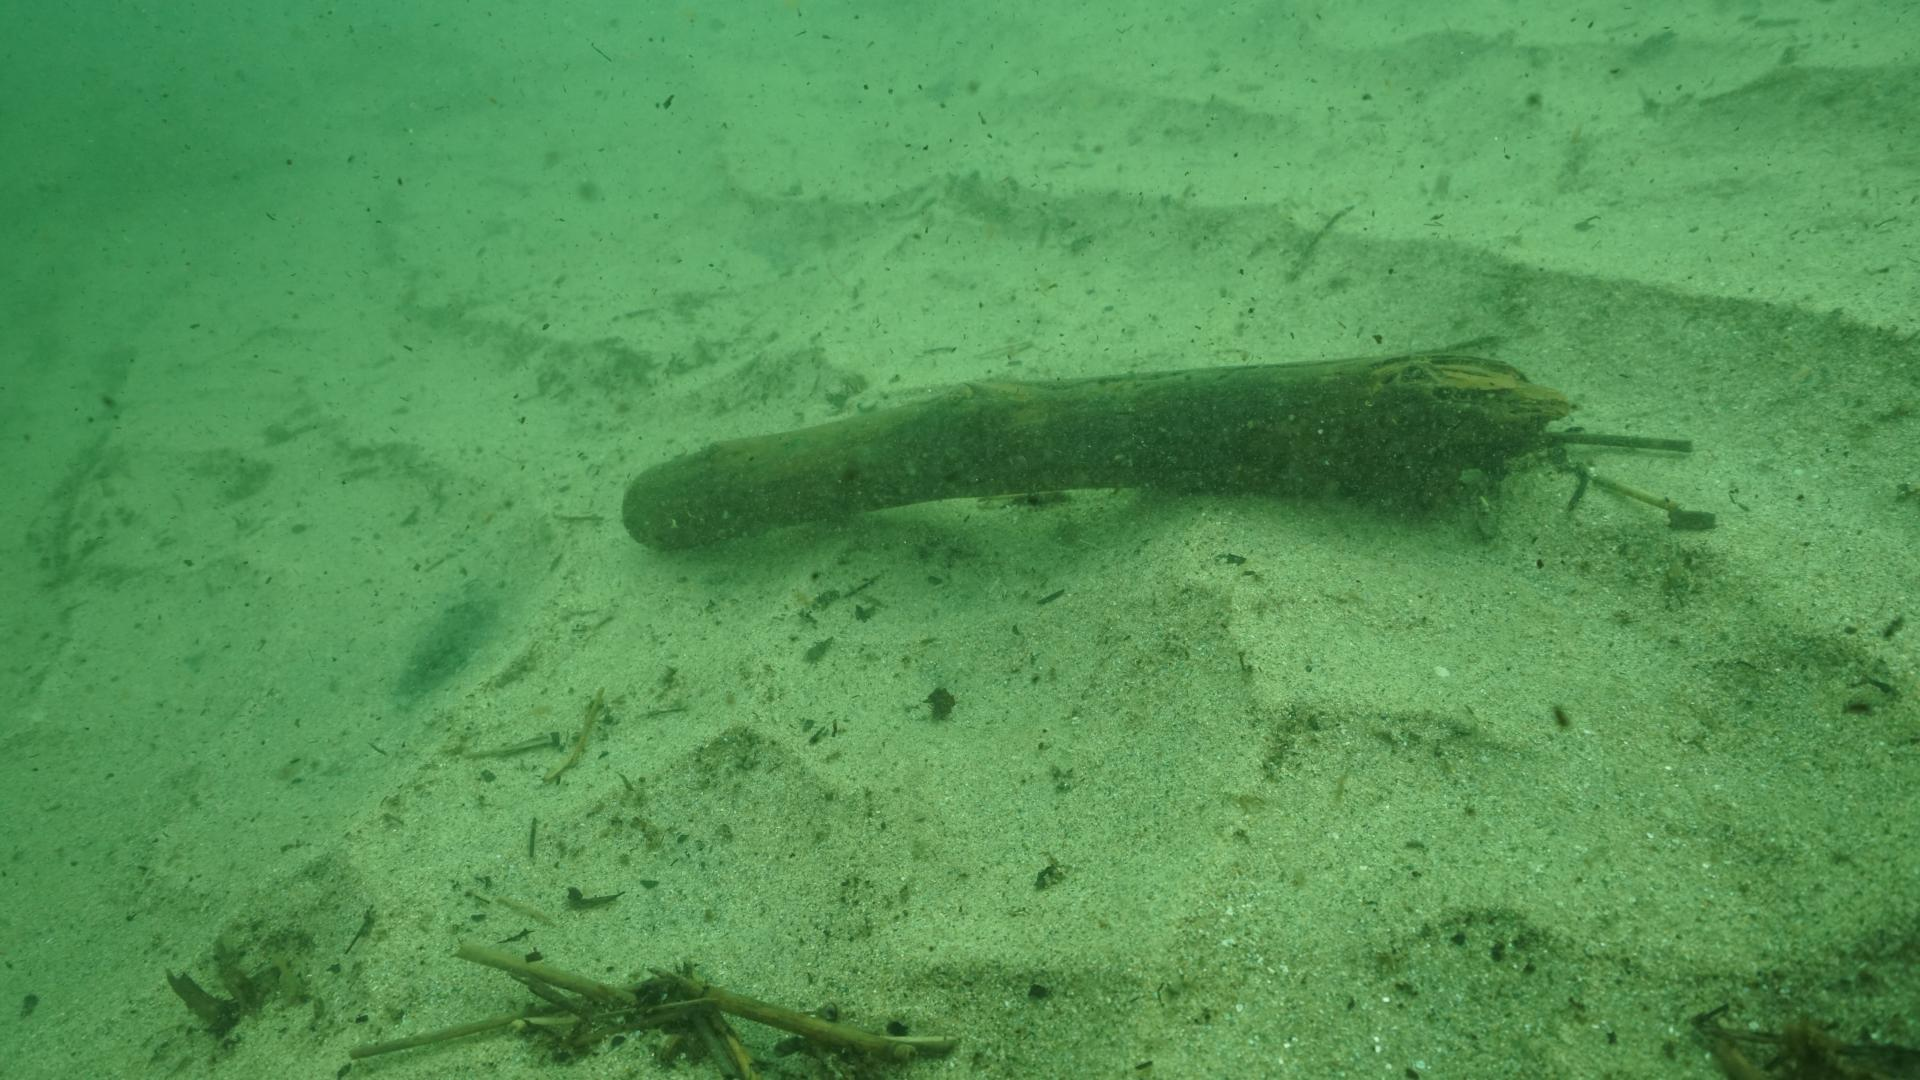wood: (618, 349, 1576, 554)
